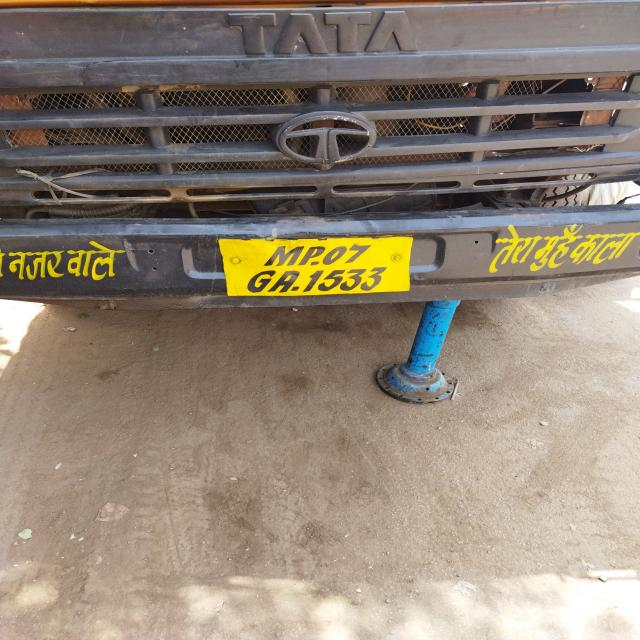license_plate: (215, 235, 415, 296)
